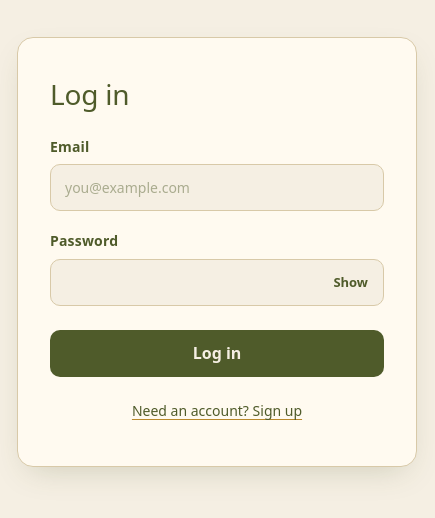
Scenario: AuthForm › TST-01-T-1 auth form shows server error
In the field labelled "Email": (217, 188) [50,164,384,211], type "a@b.co"
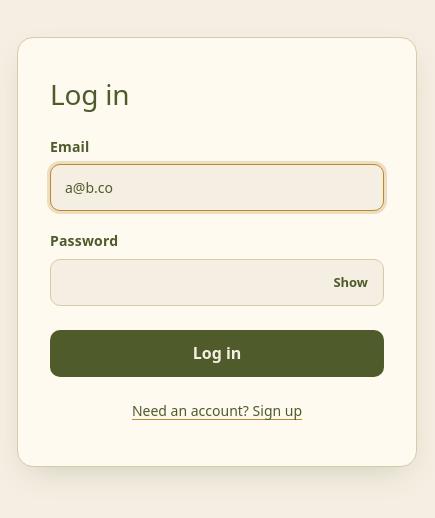
In the password field labelled "Password": (217, 282) [50,258,384,306], type "password123"
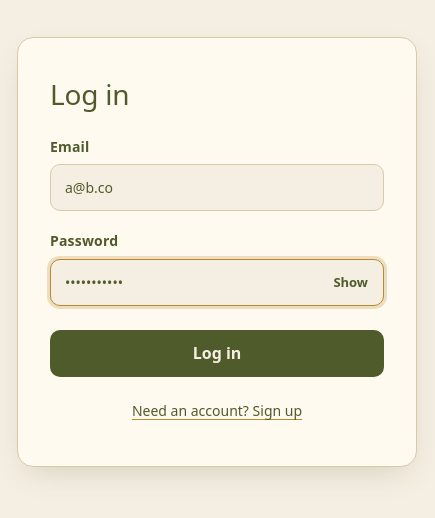
Click the button "Log in": (217, 353) [50,330,384,377]
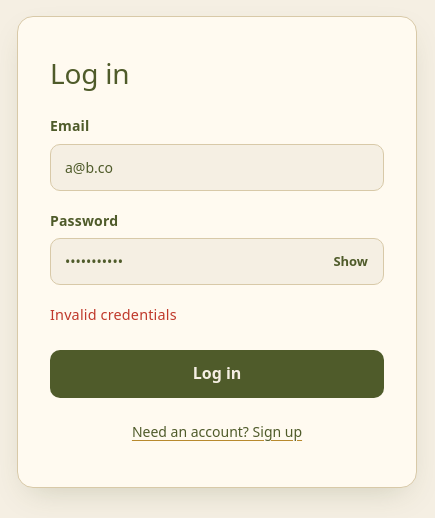
Result: the message reads "Invalid credentials" at [50,305,177,324]
